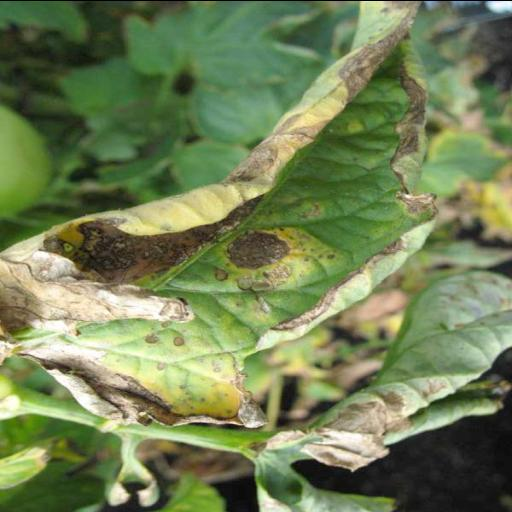disease_tomato: (0, 0, 440, 427)
